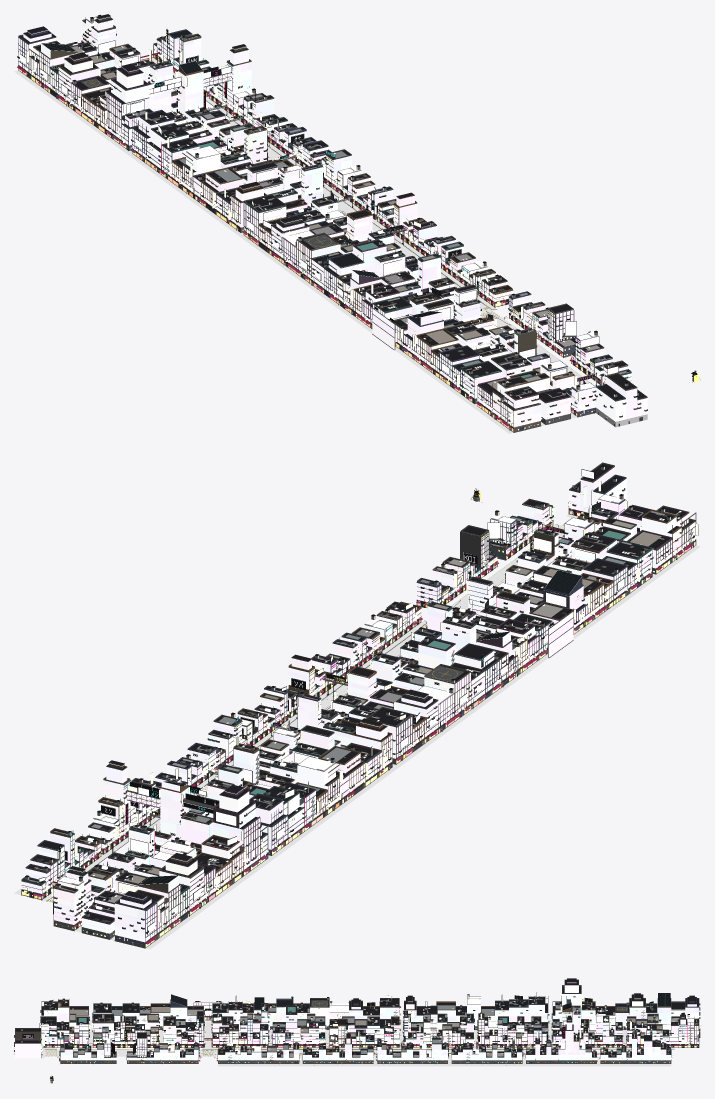
File: world-high-japantown.glb
3 views of the same model, one above another, from view 1: azimuth 30°, elevation 25°; view 2: azimuth 150°, elevation 25°; view 3: azimuth 270°, elevation 25° (orthographic). The views are drawn at different scales.
Visible parts, largest first — view 1: japantown_facade, japantown_trim_detail, japantown_trim, japantown_roof, japantown_sign, japantown_sidewalk, japantown_billboard, japantown_board_frame, japantown_plaster, japantown_glow, japantown_shop, japantown_asphalt (+5 smaller); view 2: japantown_facade, japantown_trim_detail, japantown_trim, japantown_roof, japantown_sign, japantown_sidewalk, japantown_board_frame, japantown_plaster, japantown_billboard, japantown_glow, japantown_shop, japantown_awning_detail (+6 smaller); view 3: japantown_facade, japantown_trim_detail, japantown_roof, japantown_trim, japantown_plaster, japantown_sidewalk, japantown_sign, japantown_glow, japantown_board_frame, japantown_glow_detail, japantown_dark_detail, japantown_asphalt (+10 smaller).
Boxes of the visible parts, x1,y1,x2,y2 form: japantown_facade: (18,20,647,427); japantown_trim_detail: (17,14,647,432); japantown_trim: (18,17,647,431); japantown_roof: (20,14,645,409); japantown_sign: (18,33,607,426); japantown_sidewalk: (14,58,576,433); japantown_billboard: (20,40,618,380); japantown_board_frame: (20,29,618,418); japantown_plaster: (27,16,638,431); japantown_glow: (23,16,628,430); japantown_shop: (18,55,600,431); japantown_asphalt: (230,121,595,386); japantown_facade: (21,467,695,942); japantown_trim_detail: (21,462,696,948); japantown_trim: (21,466,695,947); japantown_roof: (23,464,693,923); japantown_sign: (21,481,698,940); japantown_sidewalk: (14,514,700,949); japantown_board_frame: (23,469,681,934); japantown_plaster: (25,466,693,946); japantown_billboard: (39,469,624,933); japantown_glow: (28,467,670,926); japantown_shop: (22,511,695,947); japantown_awning_detail: (33,509,692,944); japantown_facade: (15,985,699,1060); japantown_trim_detail: (14,978,700,1063); japantown_roof: (15,978,698,1056); japantown_trim: (15,982,699,1063); japantown_plaster: (21,995,697,1063); japantown_sidewalk: (41,1019,674,1066); japantown_sign: (40,992,700,1062); japantown_glow: (23,982,696,1062); japantown_board_frame: (22,995,698,1059); japantown_glow_detail: (41,995,693,1054); japantown_dark_detail: (21,994,697,1054); japantown_asphalt: (44,1049,525,1057).
Size of the model in its own units: 175 by 59.7 by 785.
